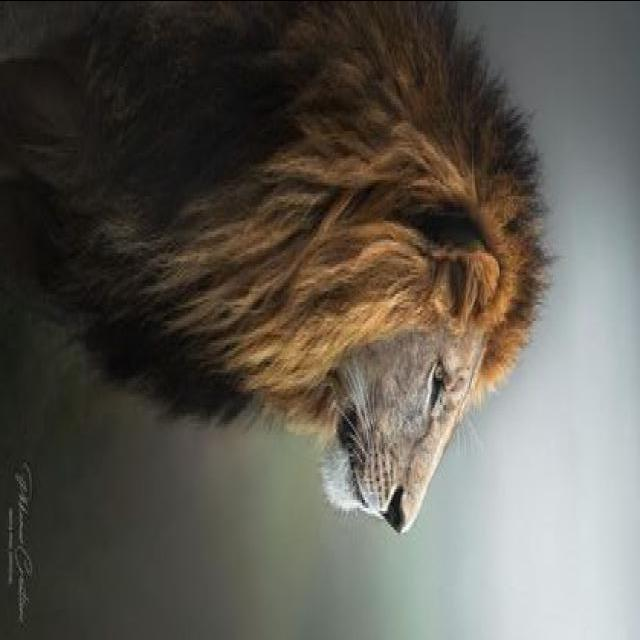lions: (13, 8, 640, 638)
